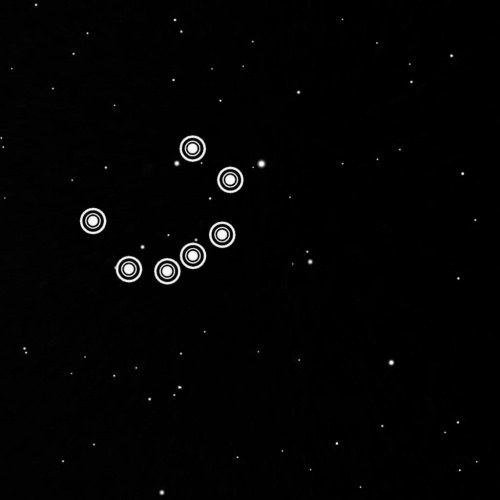corona_borealis: (72, 125, 249, 294)
